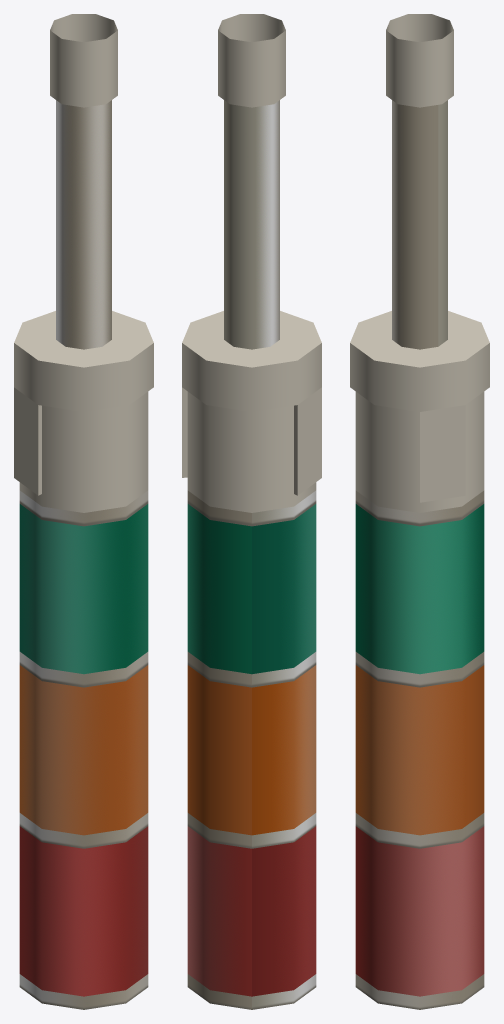
File: jingbang.FBX
3 renders of one model, left to right at view 1: azimuth 30°, elevation 25°; view 2: azimuth 150°, elevation 25°; view 3: azimuth 270°, elevation 25°, orthographic.
Visible parts, largest first — view 1: VF_Model_dianjian; view 2: VF_Model_dianjian; view 3: VF_Model_dianjian.
Boxes of the visible parts, x1=… form: VF_Model_dianjian: x1=14, y1=14, x2=153, y2=1009; VF_Model_dianjian: x1=182, y1=14, x2=321, y2=1009; VF_Model_dianjian: x1=350, y1=14, x2=489, y2=1009.
Bounding box in the file's own units: 4.21 × 32.23 × 4.28.
